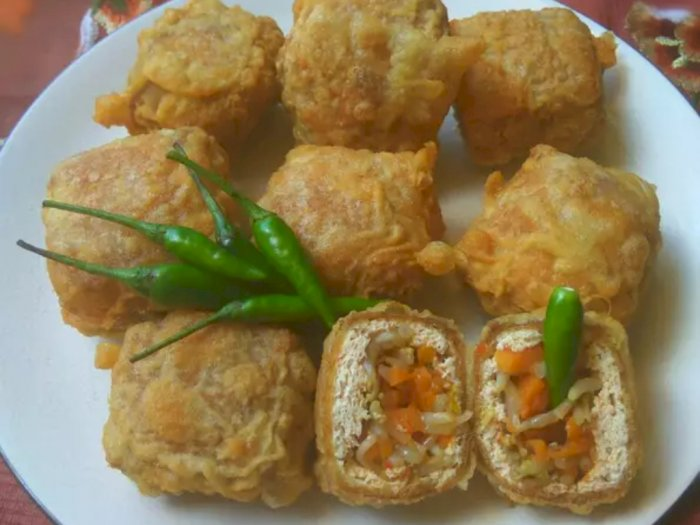Tahu: (100, 300, 329, 508), (44, 127, 230, 325), (234, 135, 445, 300), (417, 26, 615, 178), (273, 4, 470, 152), (461, 146, 644, 297), (119, 15, 301, 142)
